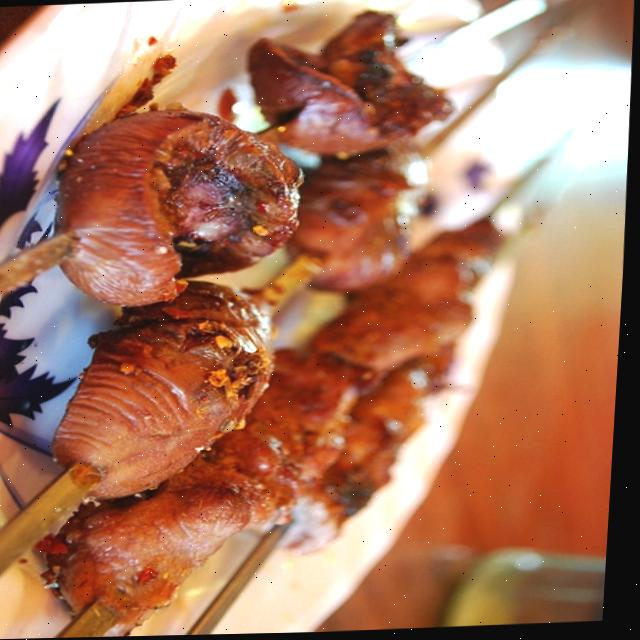烧串烤肉: (5, 5, 586, 623)
